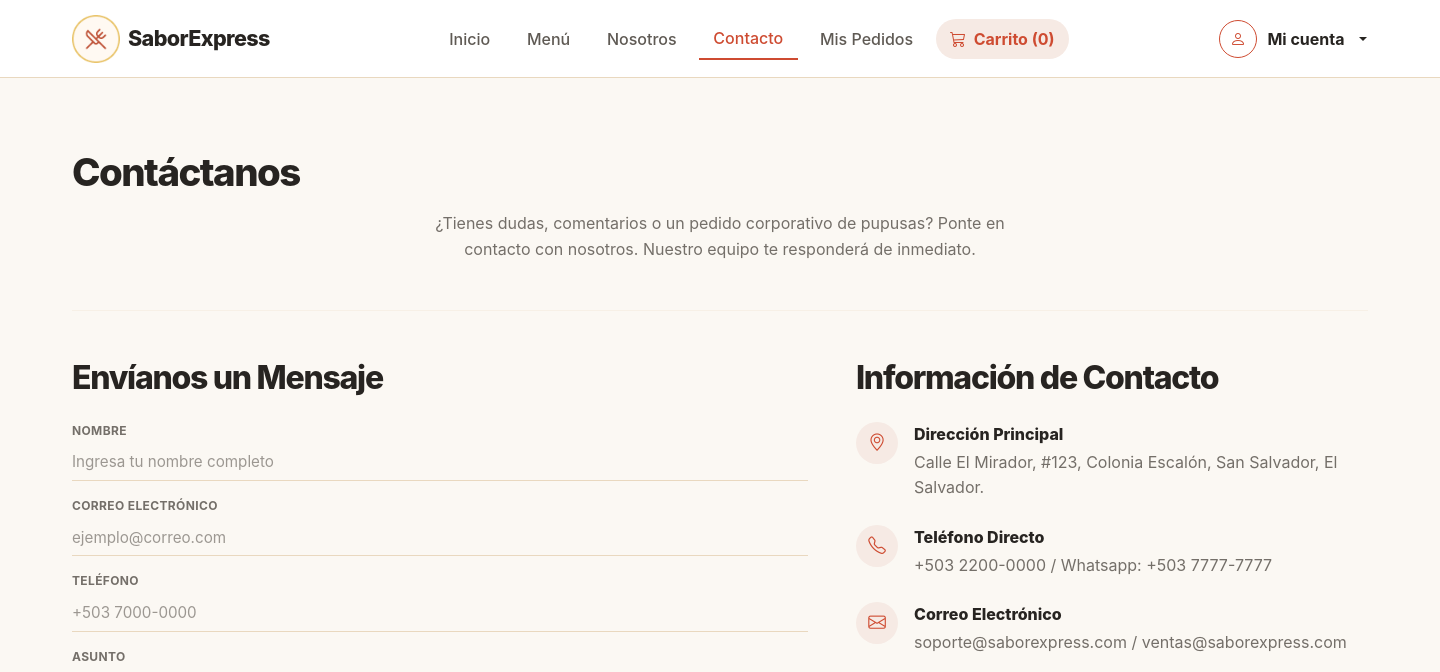
Contacto › el teléfono es opcional, pero si se escribe debe ser válido y se formatea
Type "12" into the field labelled "Teléfono" at (440, 614), box [72,596,808,632]
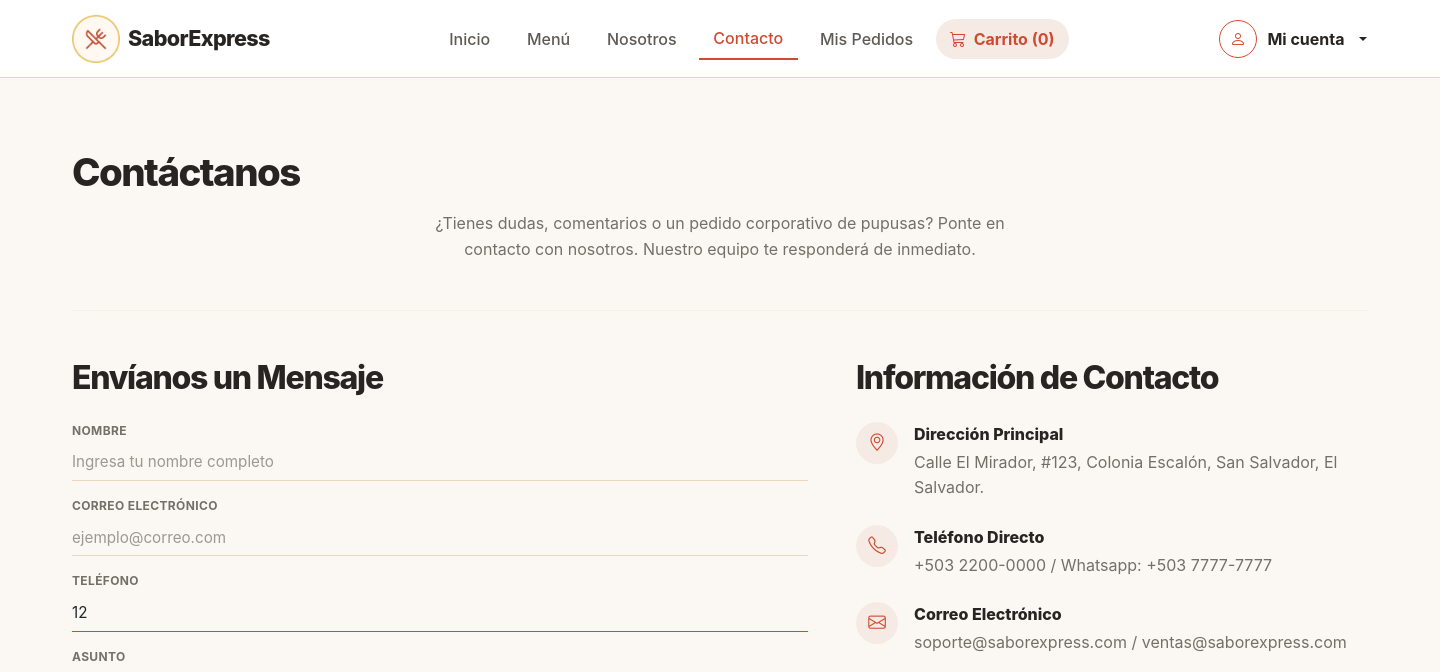
Press Tab
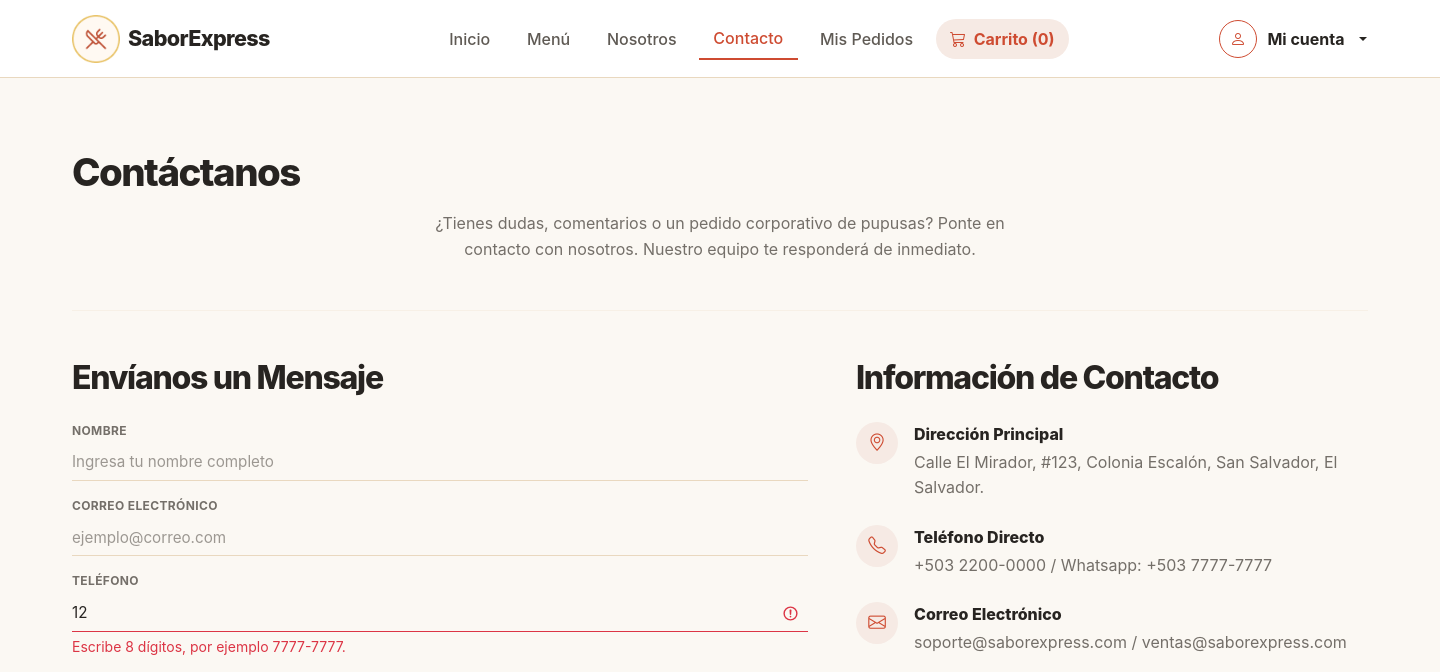
Expected: the text "Escribe 8 dígitos, por ejemplo 7777-7777." is shown, [72,638,346,655]
Replace the text in the field labelled "Teléfono" with "78901234" at (440, 614), box [72,596,808,632]
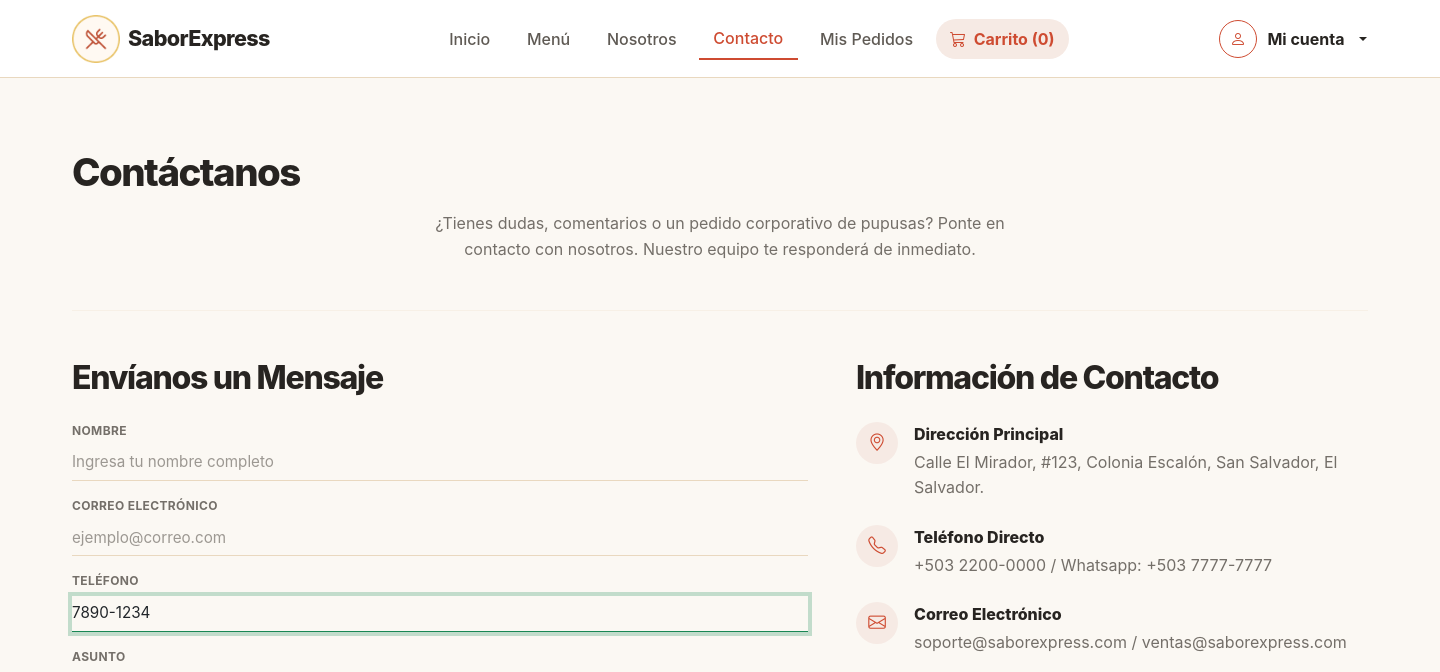
Expected: the field labelled "Teléfono" holds "7890-1234", [72,596,808,632]
